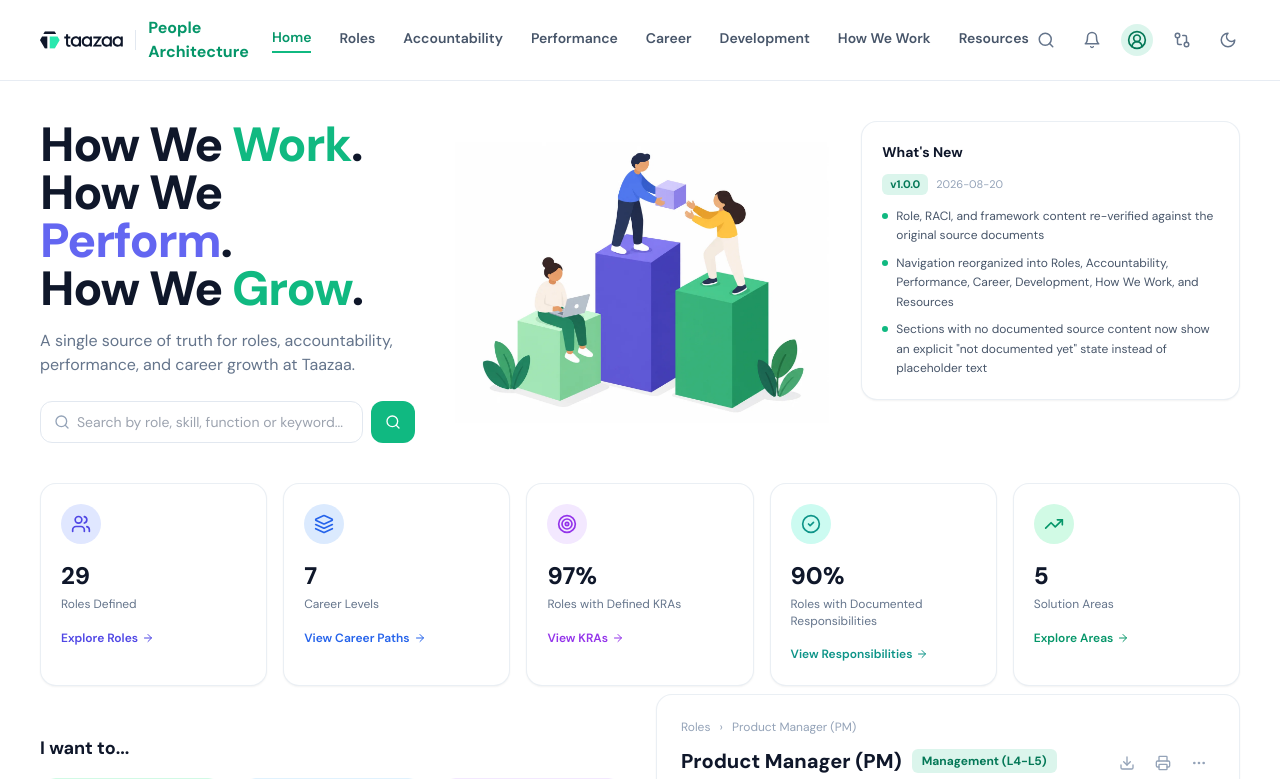
App admin login flow › opens the admin login modal from the navbar avatar when signed out
Click the button titled "Admin sign in". click: (1137, 40)
box: [1121,24,1153,56]
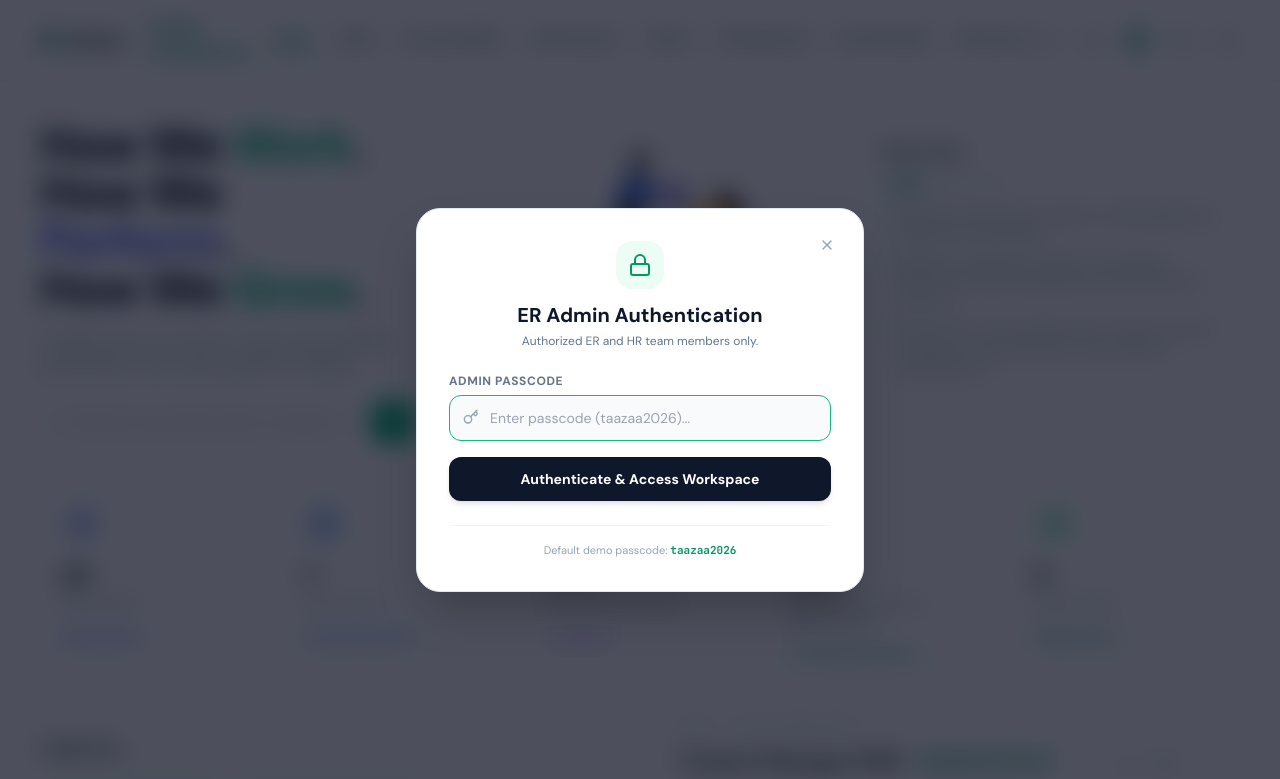
expect the heading "ER Admin Authentication" is shown: met, box [517,302,763,328]
